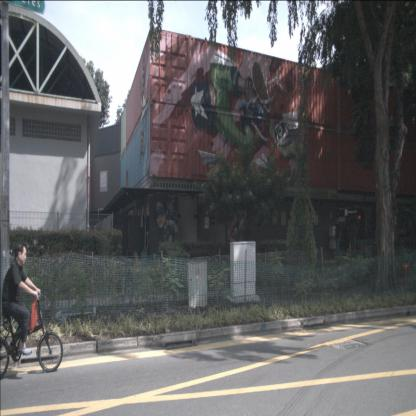human-pedestrian-adult: (126, 241, 136, 287), (334, 216, 341, 258), (348, 219, 355, 258), (351, 222, 358, 253), (146, 231, 153, 259)
vehicle-bicycle: (0, 241, 63, 379)
